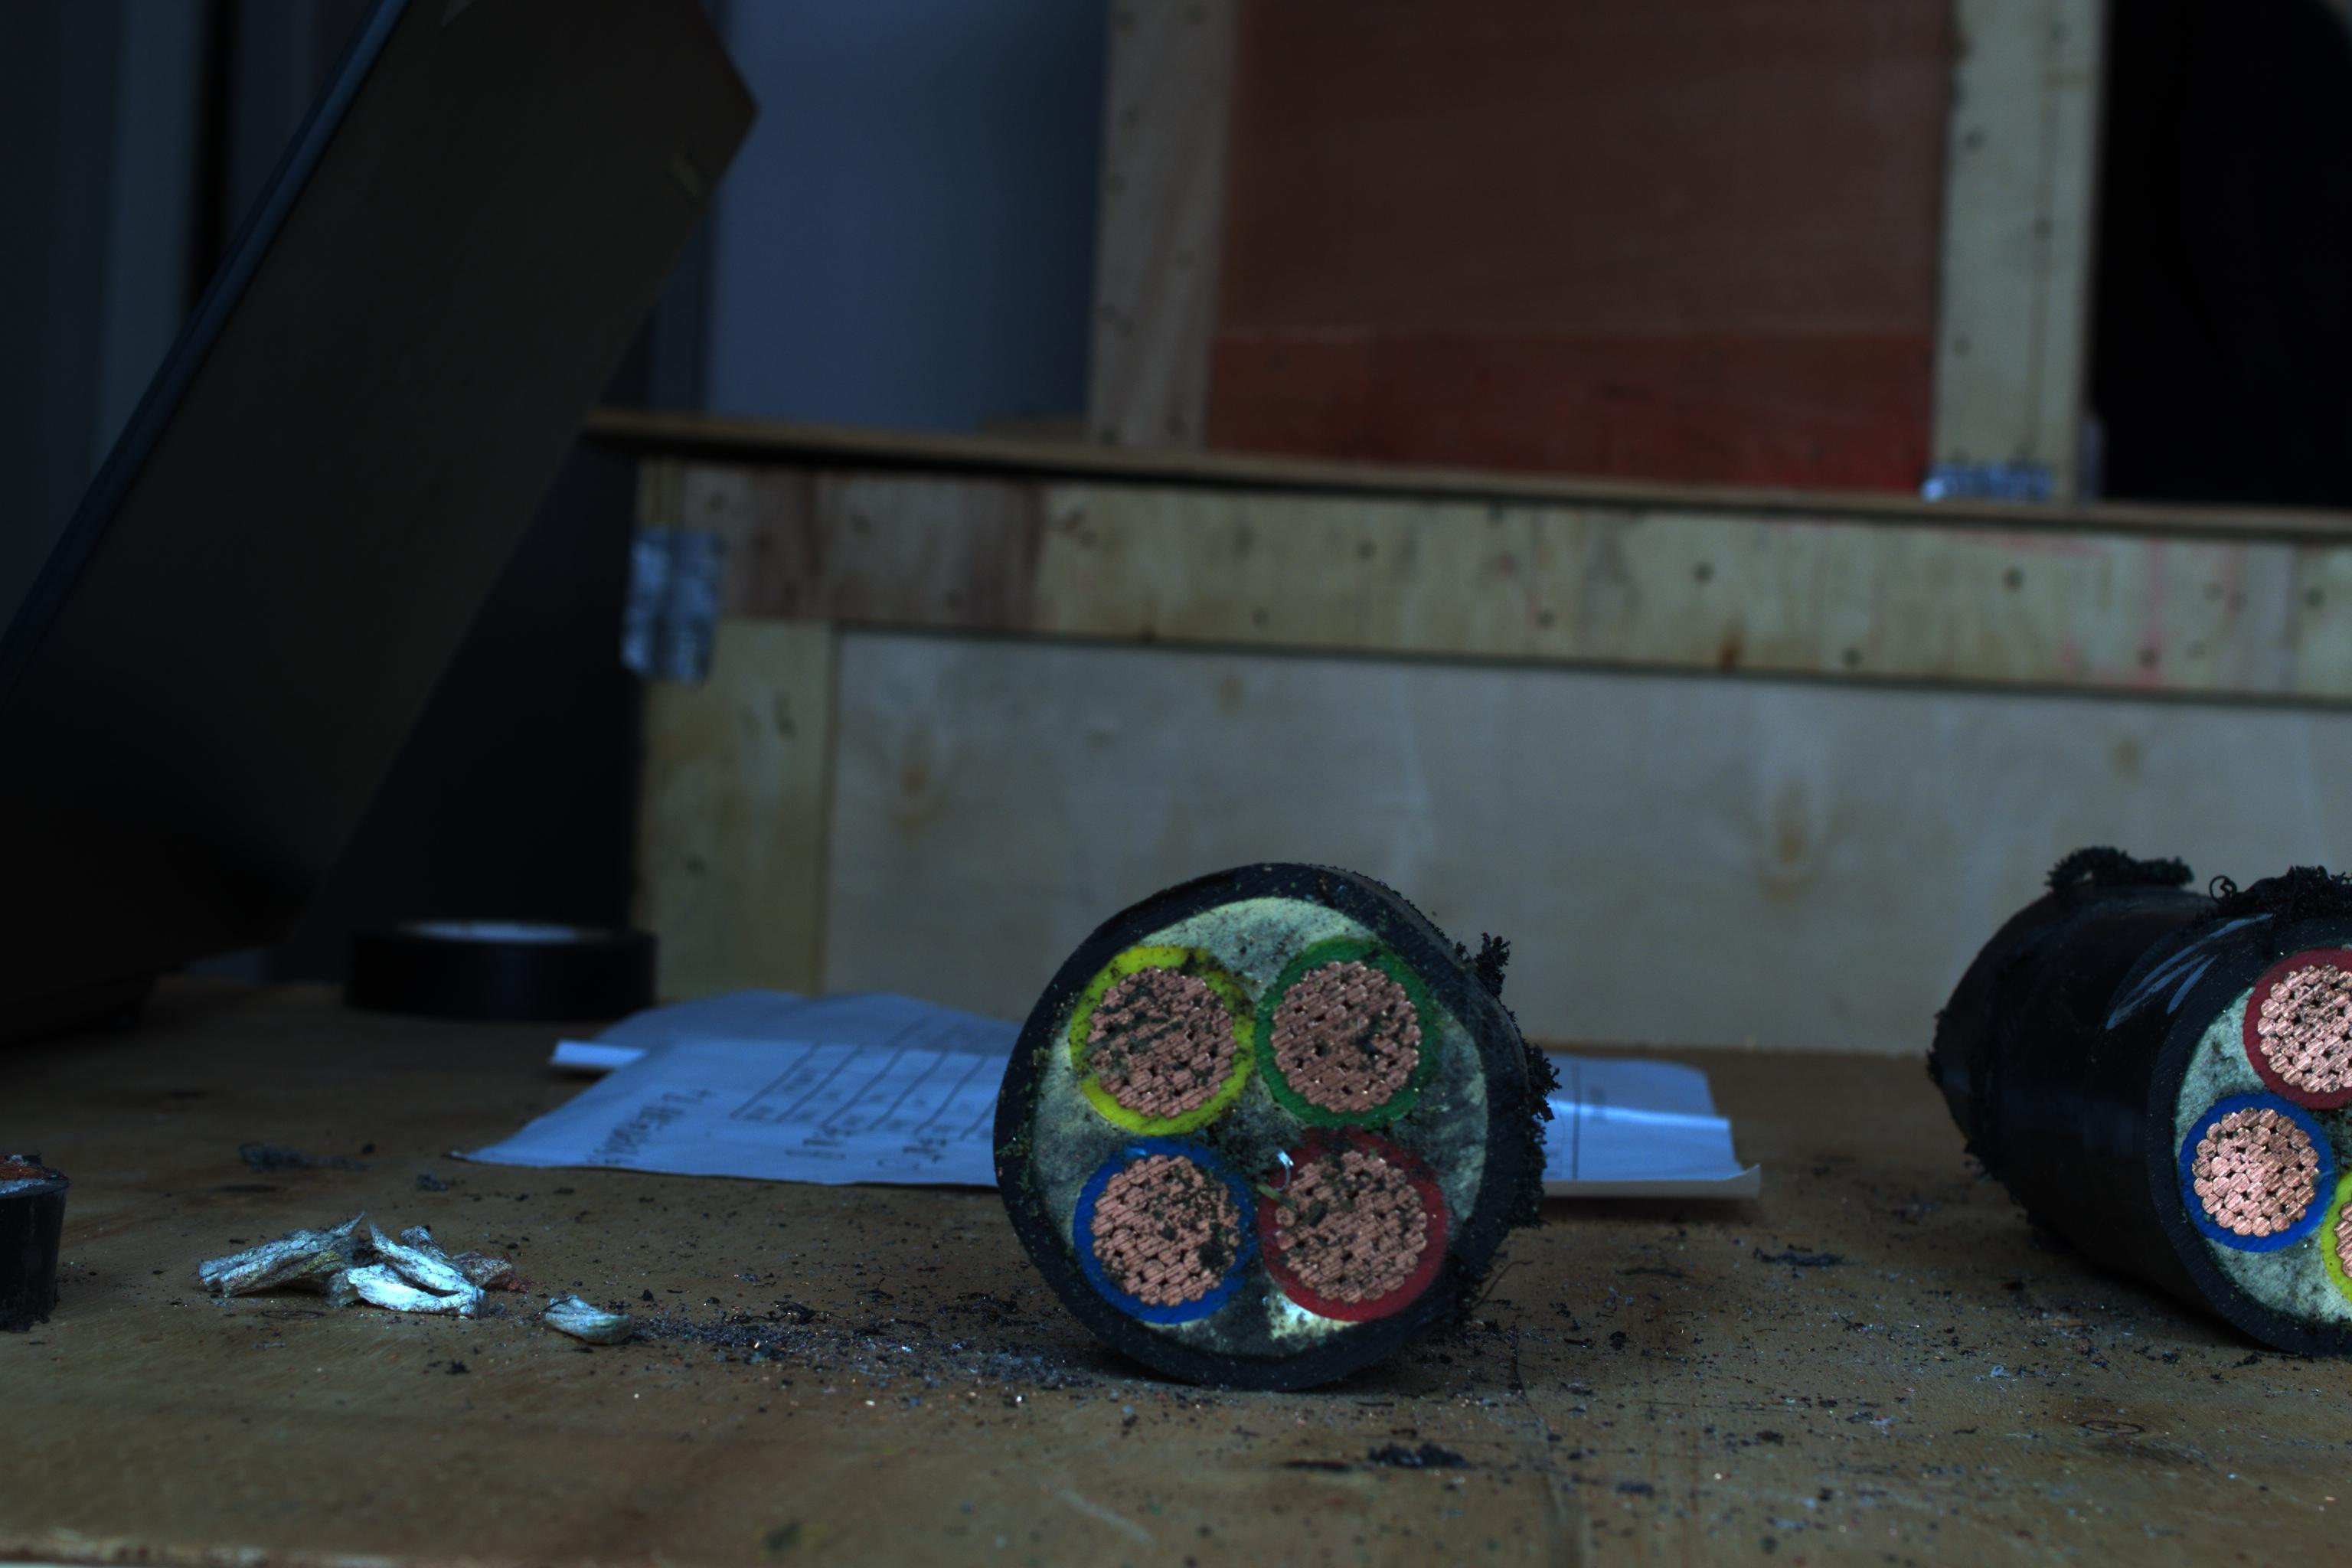YJV_0.6_1kV_4x185: (1013, 866, 1521, 1368)
